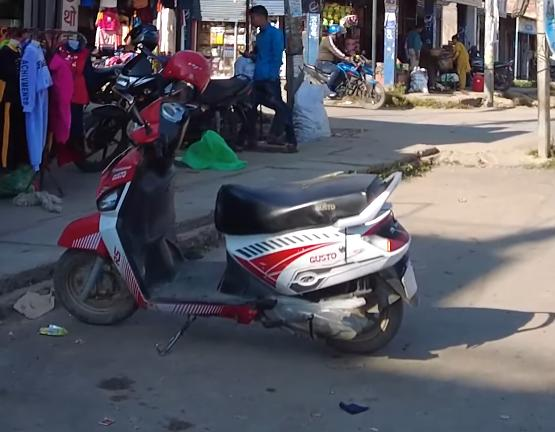bike: (297, 54, 386, 112)
scooter: (54, 91, 423, 364)
